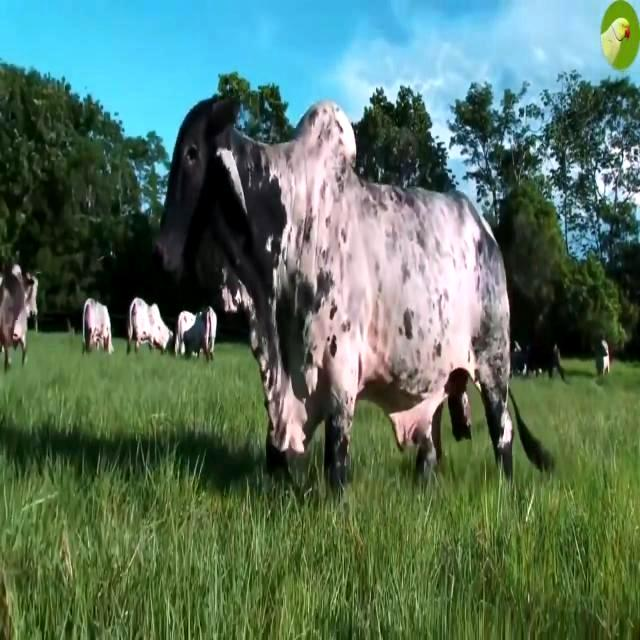COW: (156, 98, 514, 488)
